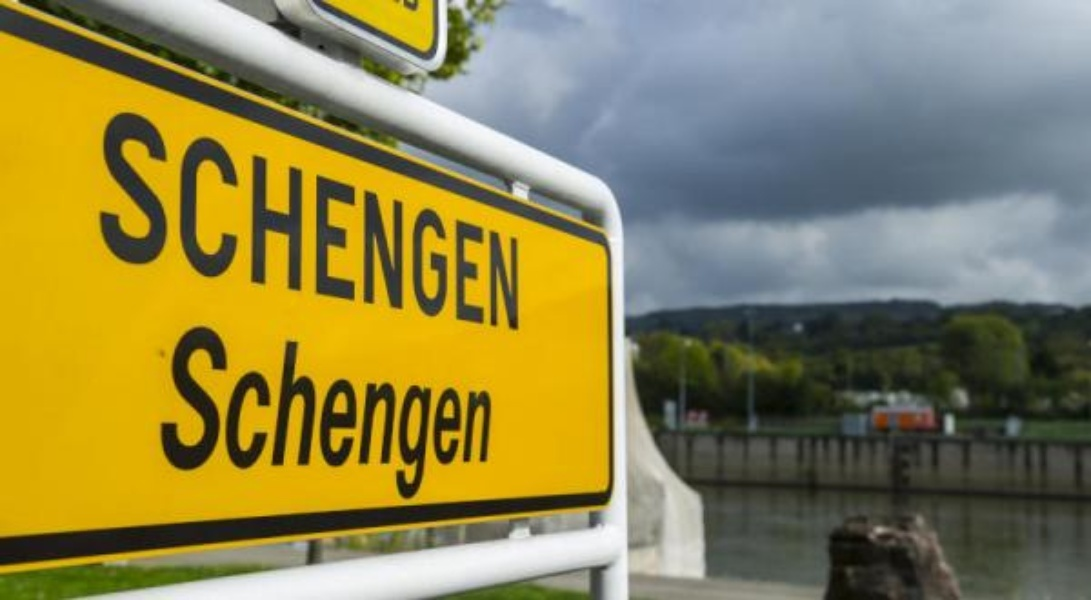text: (113, 102, 128, 335), (129, 102, 144, 335), (145, 102, 160, 335), (161, 102, 176, 335), (177, 102, 192, 335), (193, 102, 208, 335), (209, 102, 224, 335), (225, 102, 240, 335), (241, 102, 256, 335), (257, 102, 272, 335), (273, 102, 288, 335), (289, 102, 304, 335), (305, 102, 320, 335), (321, 102, 336, 335), (337, 102, 352, 335), (353, 102, 368, 335), (369, 102, 384, 335), (385, 102, 400, 335), (401, 102, 416, 335), (417, 102, 432, 335), (433, 102, 448, 335), (449, 102, 464, 335), (465, 102, 480, 335), (481, 102, 496, 335), (497, 102, 512, 335), (481, 321, 497, 499), (177, 321, 192, 499), (193, 321, 208, 499), (209, 321, 224, 499), (225, 321, 240, 499), (241, 321, 256, 499), (257, 321, 272, 499), (273, 321, 288, 499), (289, 321, 304, 499), (305, 321, 320, 499), (321, 321, 336, 499), (337, 321, 352, 499), (353, 321, 368, 499), (369, 321, 384, 499), (385, 321, 400, 499), (401, 321, 416, 499), (417, 321, 432, 499), (433, 321, 448, 499), (449, 321, 464, 499), (465, 321, 480, 499), (102, 102, 112, 335), (513, 102, 521, 335), (173, 321, 176, 499)
